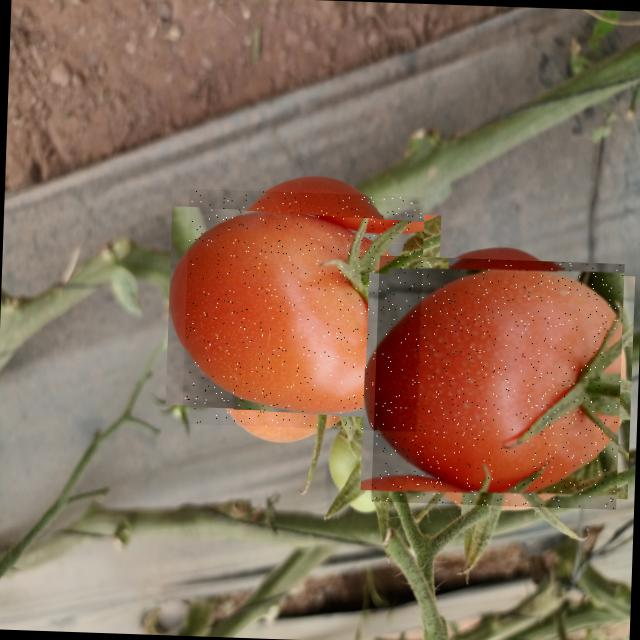Ripe Tomato: (371, 255, 624, 509), (182, 188, 424, 432)
